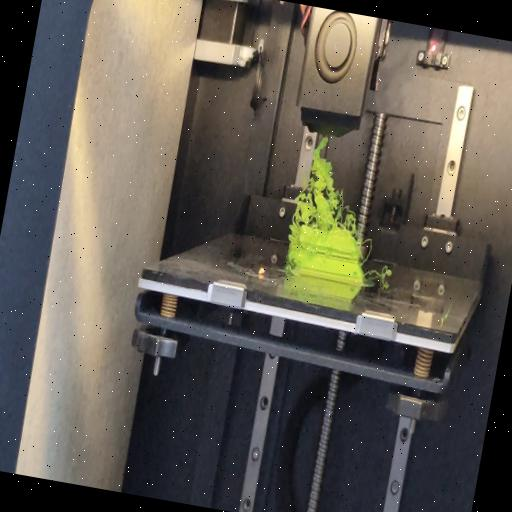spaghetti: (286, 128, 375, 242), (282, 228, 302, 275), (363, 262, 396, 285), (357, 232, 375, 264)
